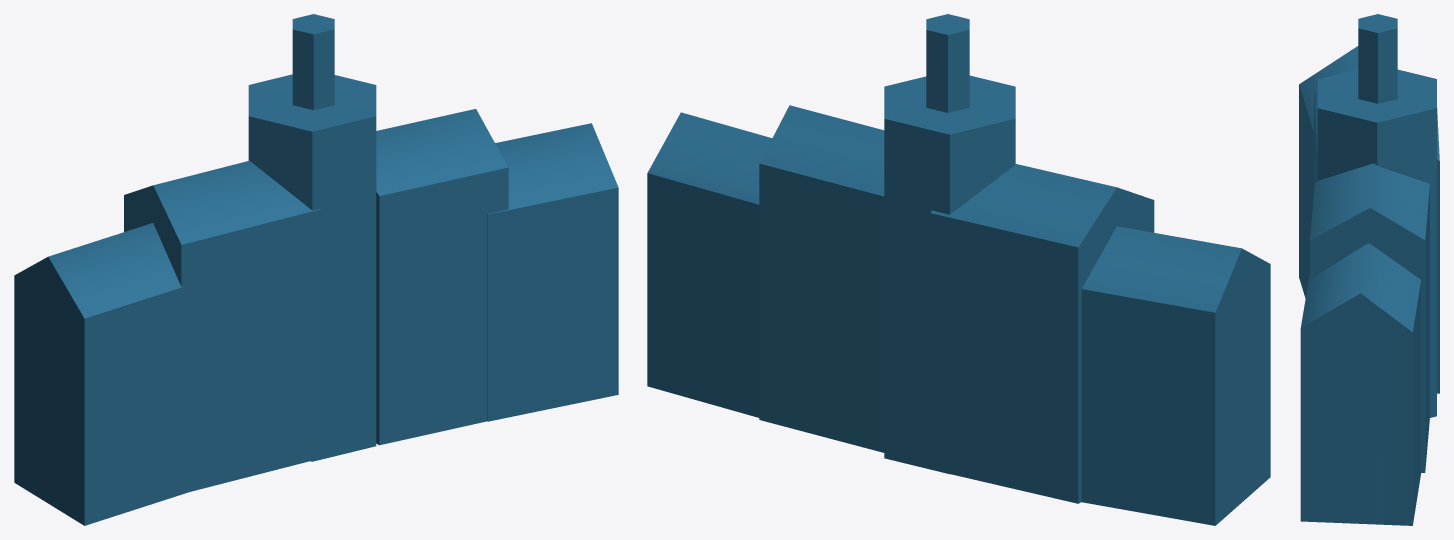
Rendered from SM_Bld_Background_04_Collision.fbx.
3 views of the same model, side by side, from view 1: azimuth 30°, elevation 25°; view 2: azimuth 150°, elevation 25°; view 3: azimuth 270°, elevation 25° (orthographic). The views are drawn at different scales.
Visible parts, largest first — view 1: SM_Bld_Background_04_Collision; view 2: SM_Bld_Background_04_Collision; view 3: SM_Bld_Background_04_Collision.
Boxes of the visible parts, box(x1,y1,x2,y2) form: SM_Bld_Background_04_Collision: box(14, 14, 618, 525); SM_Bld_Background_04_Collision: box(647, 14, 1270, 525); SM_Bld_Background_04_Collision: box(1299, 14, 1439, 525).
Size of the model in its own units: 7062 by 4951 by 1666.
